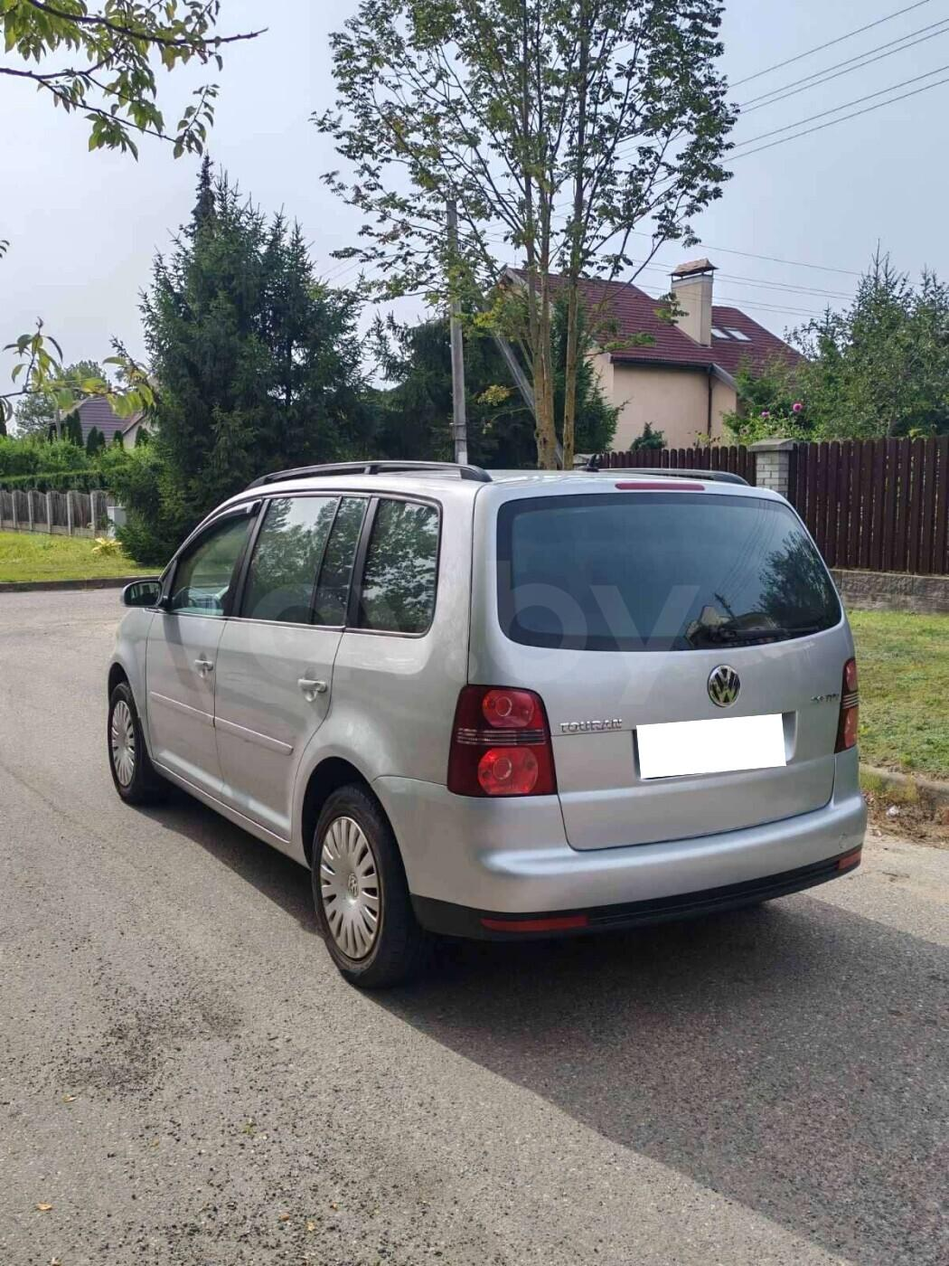Touran_2006-2010: (101, 465, 873, 998)
